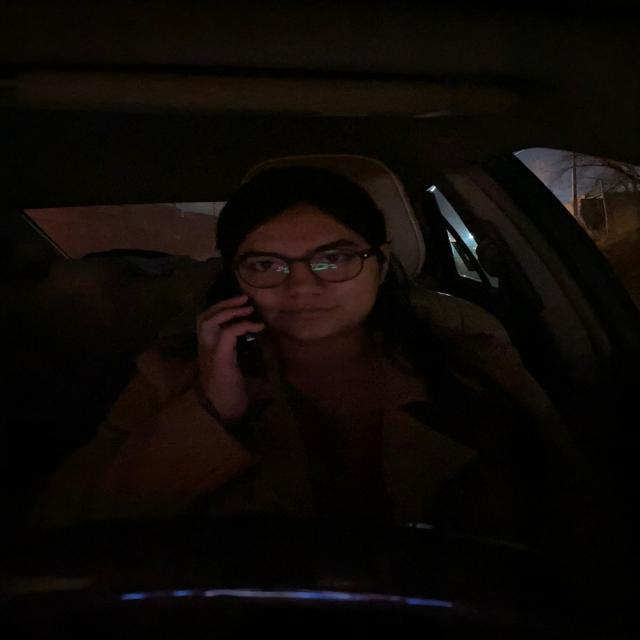mobile: (220, 265, 272, 379)
person: (215, 171, 411, 345)
